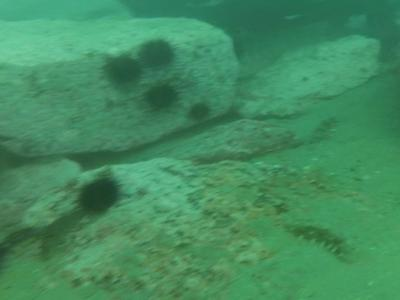holothurian: (288, 219, 356, 261)
urchin: (76, 179, 123, 213), (104, 55, 143, 92), (139, 39, 174, 67), (149, 83, 178, 107), (186, 104, 211, 121)
